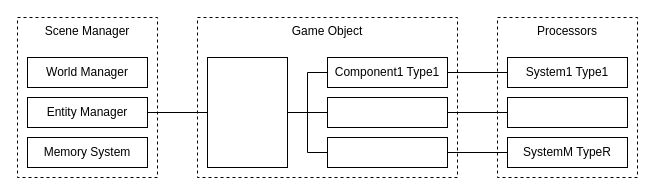
Image size: 655x195. Some labels were removed from this diagram. Here are the shapes that lost their labels. From the top down, the centre of each, then its label:
At point 247,112: "Entity".
At point 387,112: "Component2 Type2".
At point 567,112: "System2 Type2".
At point 387,152: "ComponentN TypeR".
